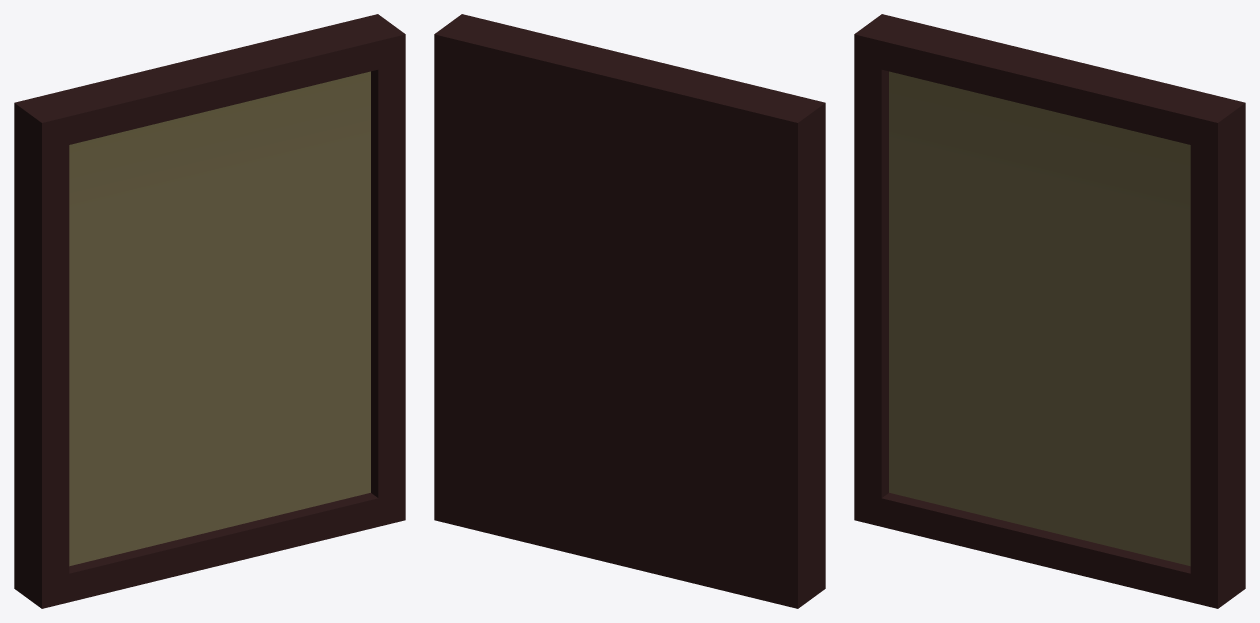
The model's file is PaintingSmall.fbx.
The picture shows the model from 3 angles, left to right: view 1: azimuth 30°, elevation 25°; view 2: azimuth 150°, elevation 25°; view 3: azimuth 330°, elevation 25°; orthographic projection.
Visible parts, largest first — view 1: PaintingSmall; view 2: PaintingSmall; view 3: PaintingSmall.
Boxes of the visible parts, x1,y1,x2,y2 form: PaintingSmall: (14,14,405,608); PaintingSmall: (434,14,825,608); PaintingSmall: (854,14,1245,608).
Size of the model in its own units: 25.48 by 32.52 by 3.37.
2 materials, 1 textured.
